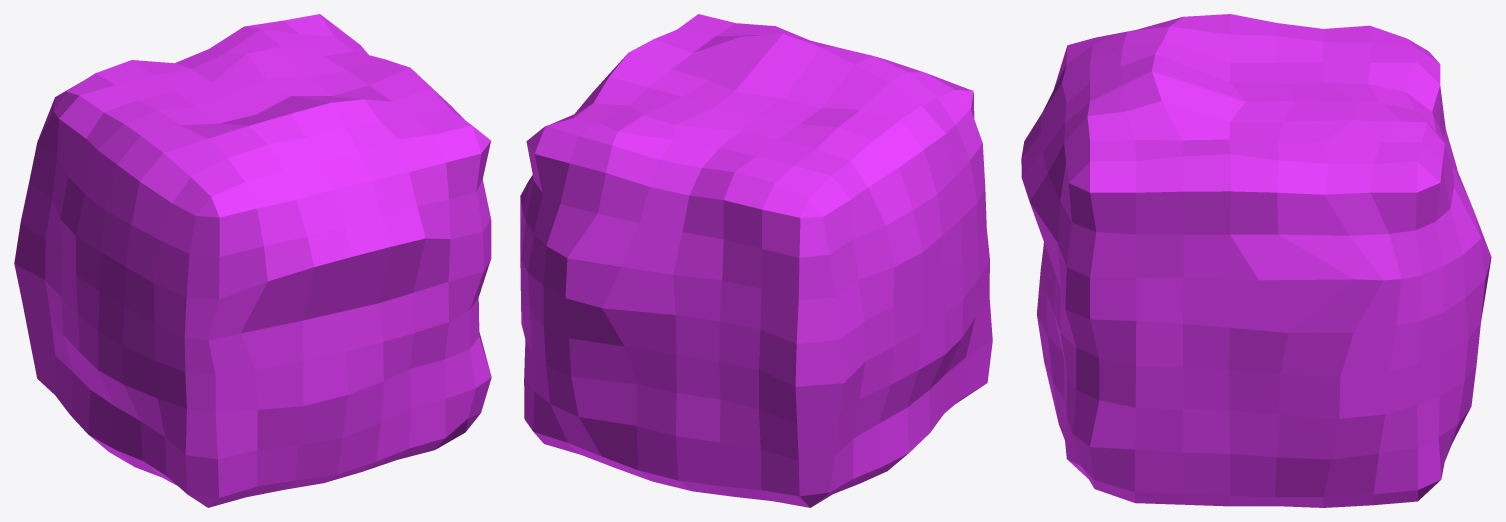
Rendered from rocky wall 1x1.fbx.
The picture shows the model from 3 angles, left to right: view 1: azimuth 30°, elevation 25°; view 2: azimuth 150°, elevation 25°; view 3: azimuth 270°, elevation 25°; orthographic projection. The views are drawn at different scales.
Parts seen in each view (by area): view 1: Cube; view 2: Cube; view 3: Cube.
Part boxes in pixels (x1=…): Cube: x1=14, y1=14, x2=491, y2=507; Cube: x1=520, y1=14, x2=992, y2=507; Cube: x1=1021, y1=14, x2=1491, y2=507.
Size of the model in its own units: 237 by 223 by 252.
